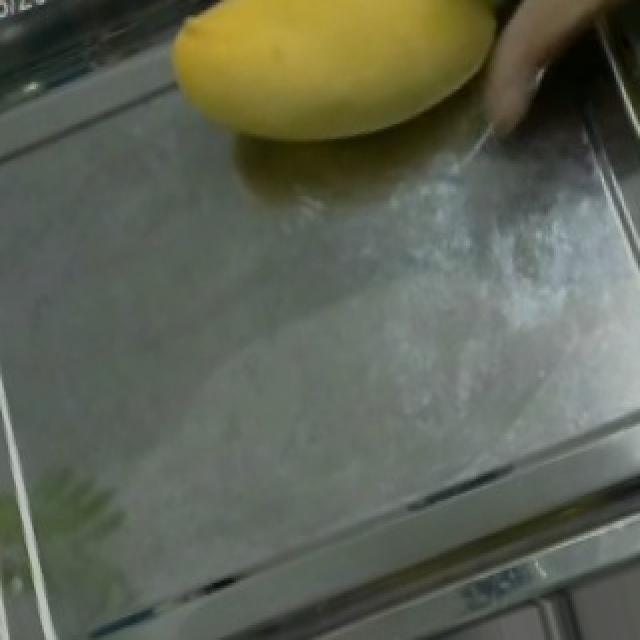fruit: (146, 0, 540, 216)
